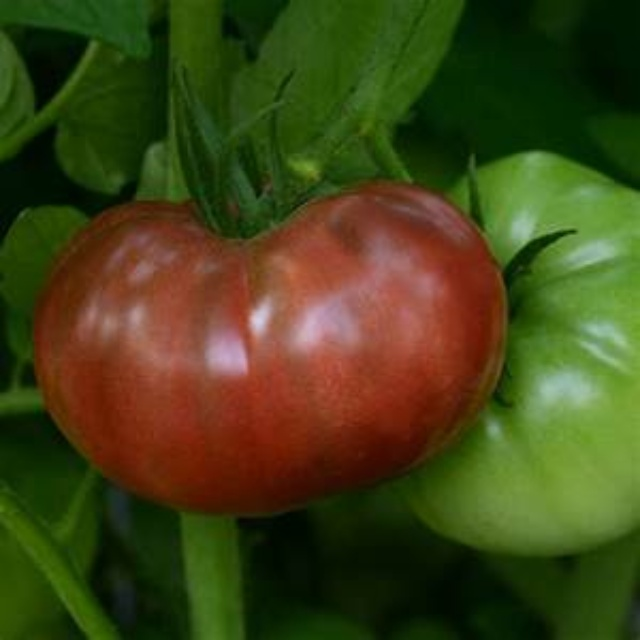tomato: (41, 187, 505, 509), (407, 135, 638, 548)
